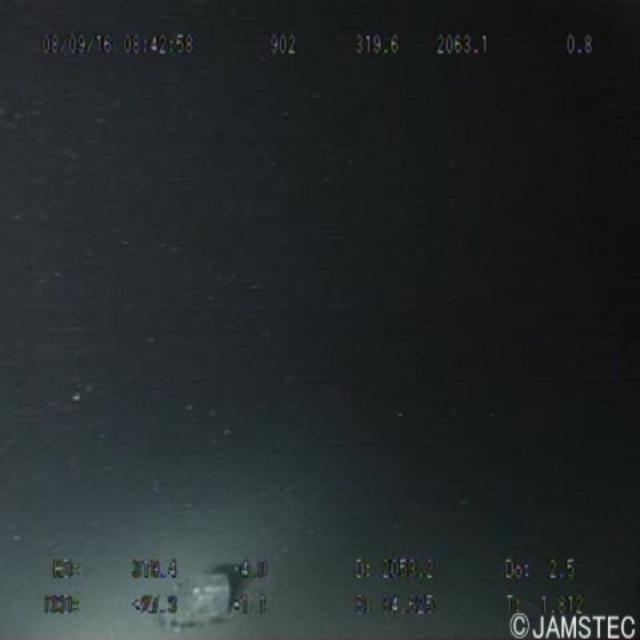Glass: (146, 544, 259, 636)
